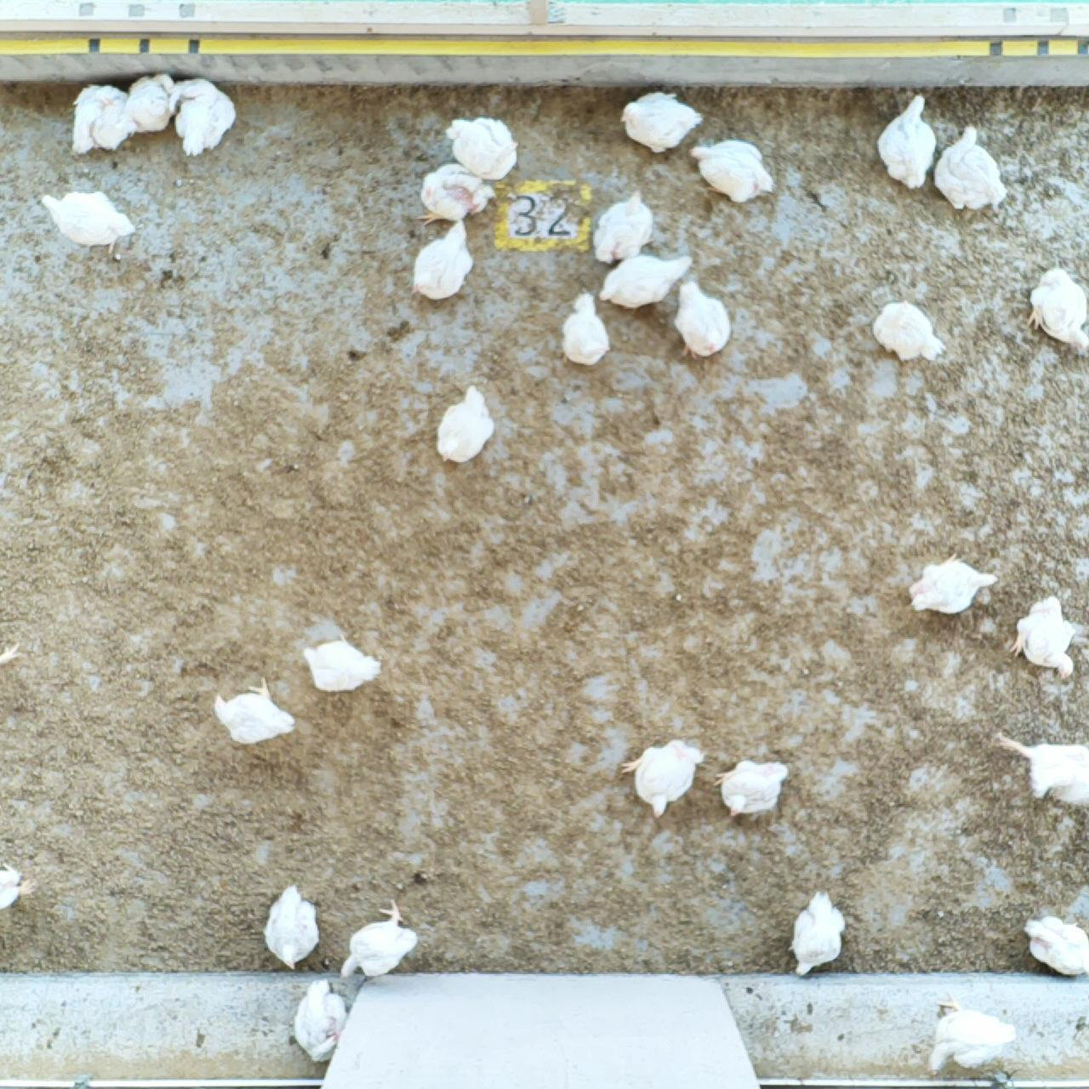chicken: (990, 727, 1089, 814), (923, 989, 1019, 1078), (335, 894, 423, 981), (618, 736, 707, 821), (932, 123, 1008, 212), (37, 188, 135, 255), (165, 75, 240, 159), (906, 551, 1001, 617), (1021, 265, 1089, 357), (876, 94, 939, 191), (1008, 595, 1079, 681), (688, 139, 777, 207), (214, 677, 298, 749), (409, 220, 478, 303), (292, 977, 354, 1068), (619, 89, 704, 155), (260, 883, 323, 972), (596, 254, 694, 311), (300, 629, 384, 695), (415, 159, 497, 225), (787, 887, 846, 976), (433, 384, 497, 466), (445, 113, 522, 181), (673, 277, 734, 362), (592, 187, 654, 270), (869, 299, 946, 365), (714, 757, 791, 821), (1021, 914, 1089, 982), (68, 82, 129, 156), (556, 292, 611, 367), (123, 70, 179, 135), (0, 860, 37, 919)
